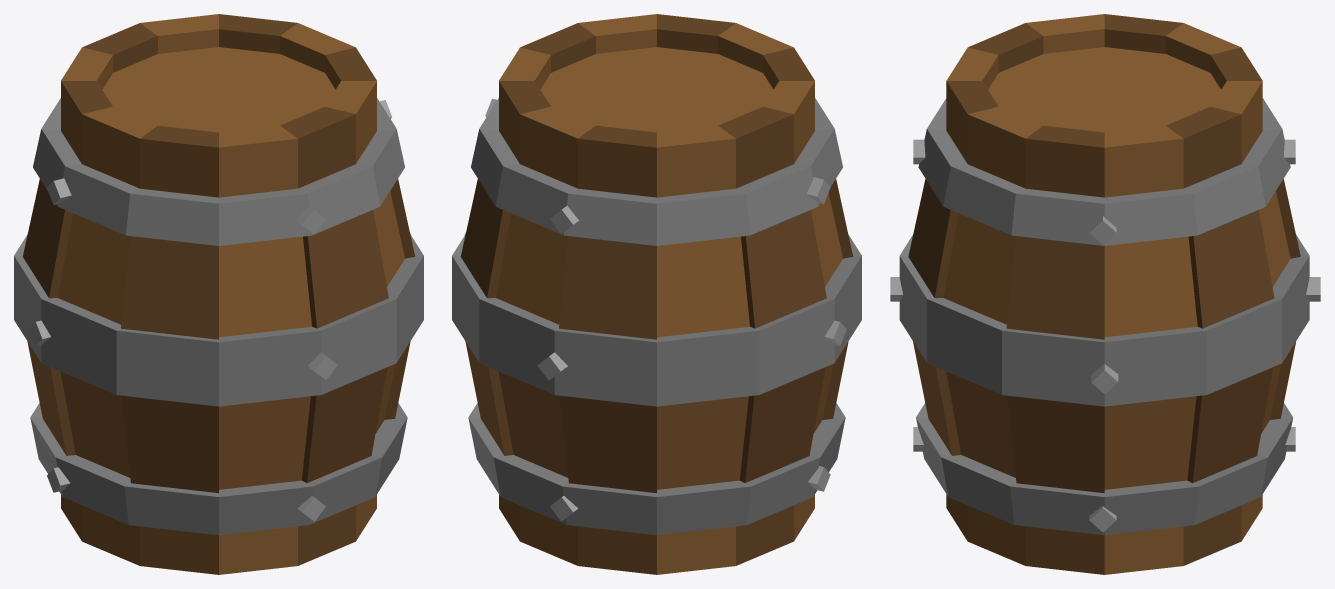
File: Item_Barrel_Fantasy.fbx
3 renders of one model, left to right at view 1: azimuth 30°, elevation 25°; view 2: azimuth 150°, elevation 25°; view 3: azimuth 270°, elevation 25°, orthographic.
Parts seen in each view (by area): view 1: Item Barrel Fantasy; view 2: Item Barrel Fantasy; view 3: Item Barrel Fantasy.
Boxes of the visible parts, x1,y1,x2,y2 form: Item Barrel Fantasy: [14, 14, 423, 574]; Item Barrel Fantasy: [452, 14, 861, 574]; Item Barrel Fantasy: [890, 14, 1320, 574].
Bounding box in the file's own units: 273 × 298 × 272.
